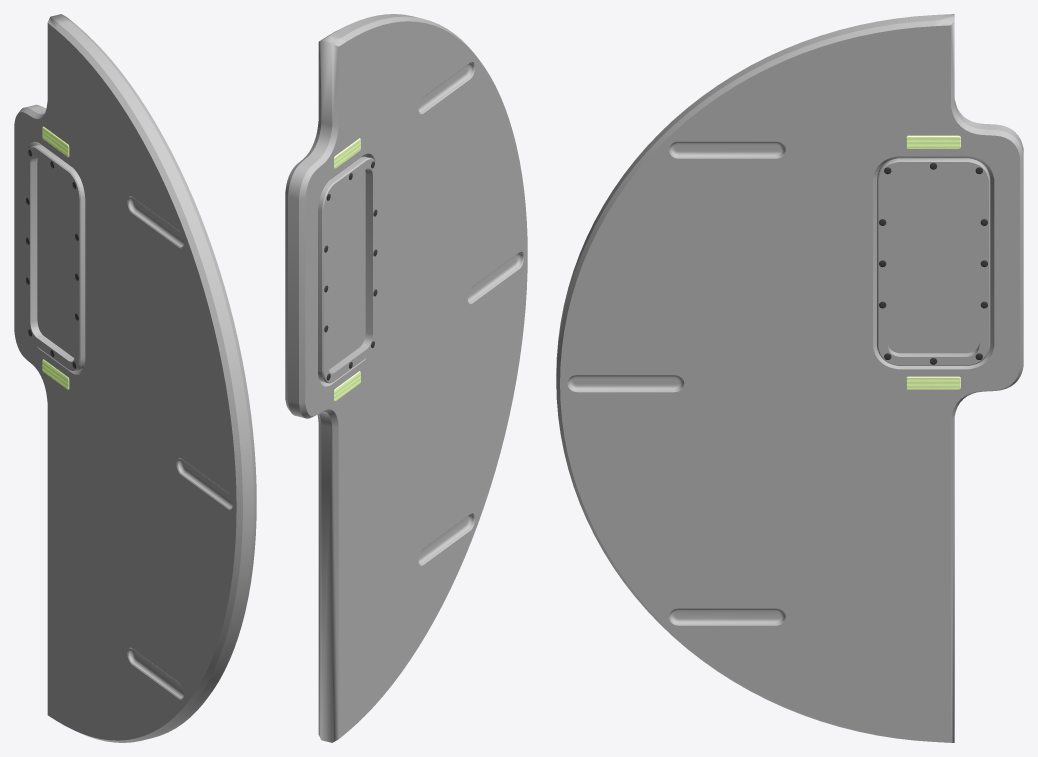
Rendered from Porta2.fbx.
3 renders of one model, left to right at view 1: azimuth 30°, elevation 25°; view 2: azimuth 150°, elevation 25°; view 3: azimuth 270°, elevation 25°, orthographic. The views are drawn at different scales.
Visible parts, largest first — view 1: polySurface26; view 2: polySurface26; view 3: polySurface26.
Part boxes in pixels (x1,y1,x2,y2): polySurface26: (14, 14, 256, 742); polySurface26: (285, 14, 527, 742); polySurface26: (556, 14, 1023, 742).
Size of the model in its own units: 8.35 by 205 by 120.
